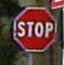stop: (12, 6, 57, 52)
